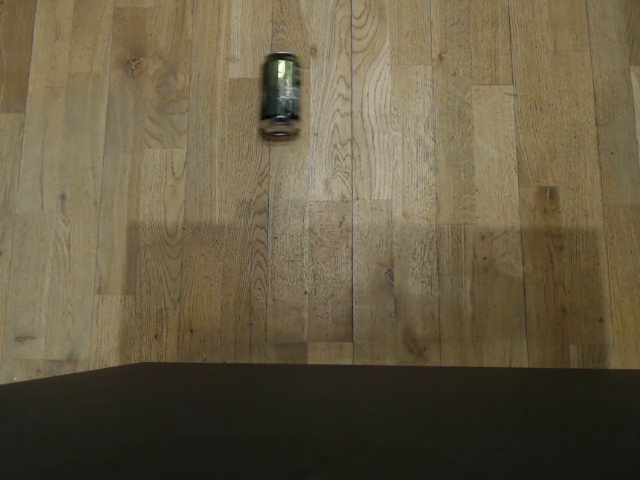beer: (257, 50, 304, 142)
